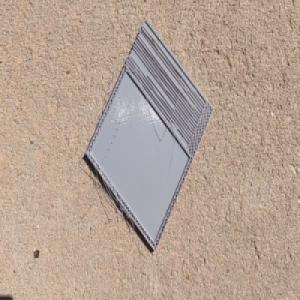PlasticPart: (84, 17, 215, 255)
